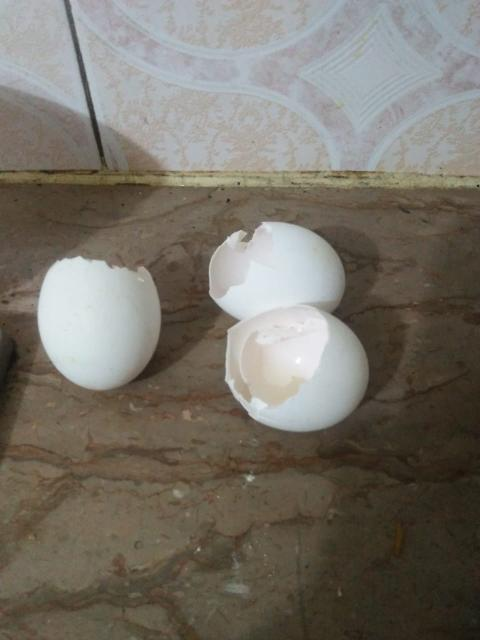Roto: (223, 304, 370, 432), (36, 254, 162, 391), (207, 220, 346, 320)
